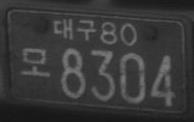0: (118, 51, 147, 105), (118, 21, 138, 47)
3: (89, 47, 116, 102)
4: (149, 53, 176, 108)
8: (59, 45, 87, 100), (99, 20, 118, 45)
대구_O: (52, 16, 97, 41)
모: (19, 46, 50, 78)
